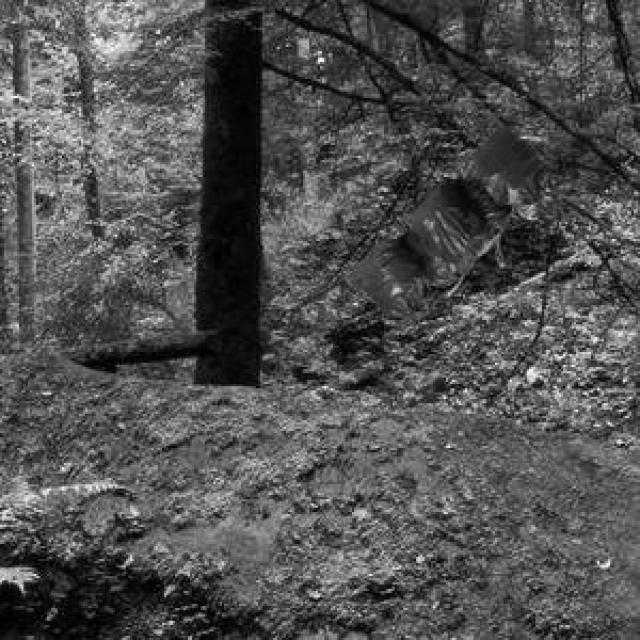miscellaneous trash: (344, 120, 542, 316)
